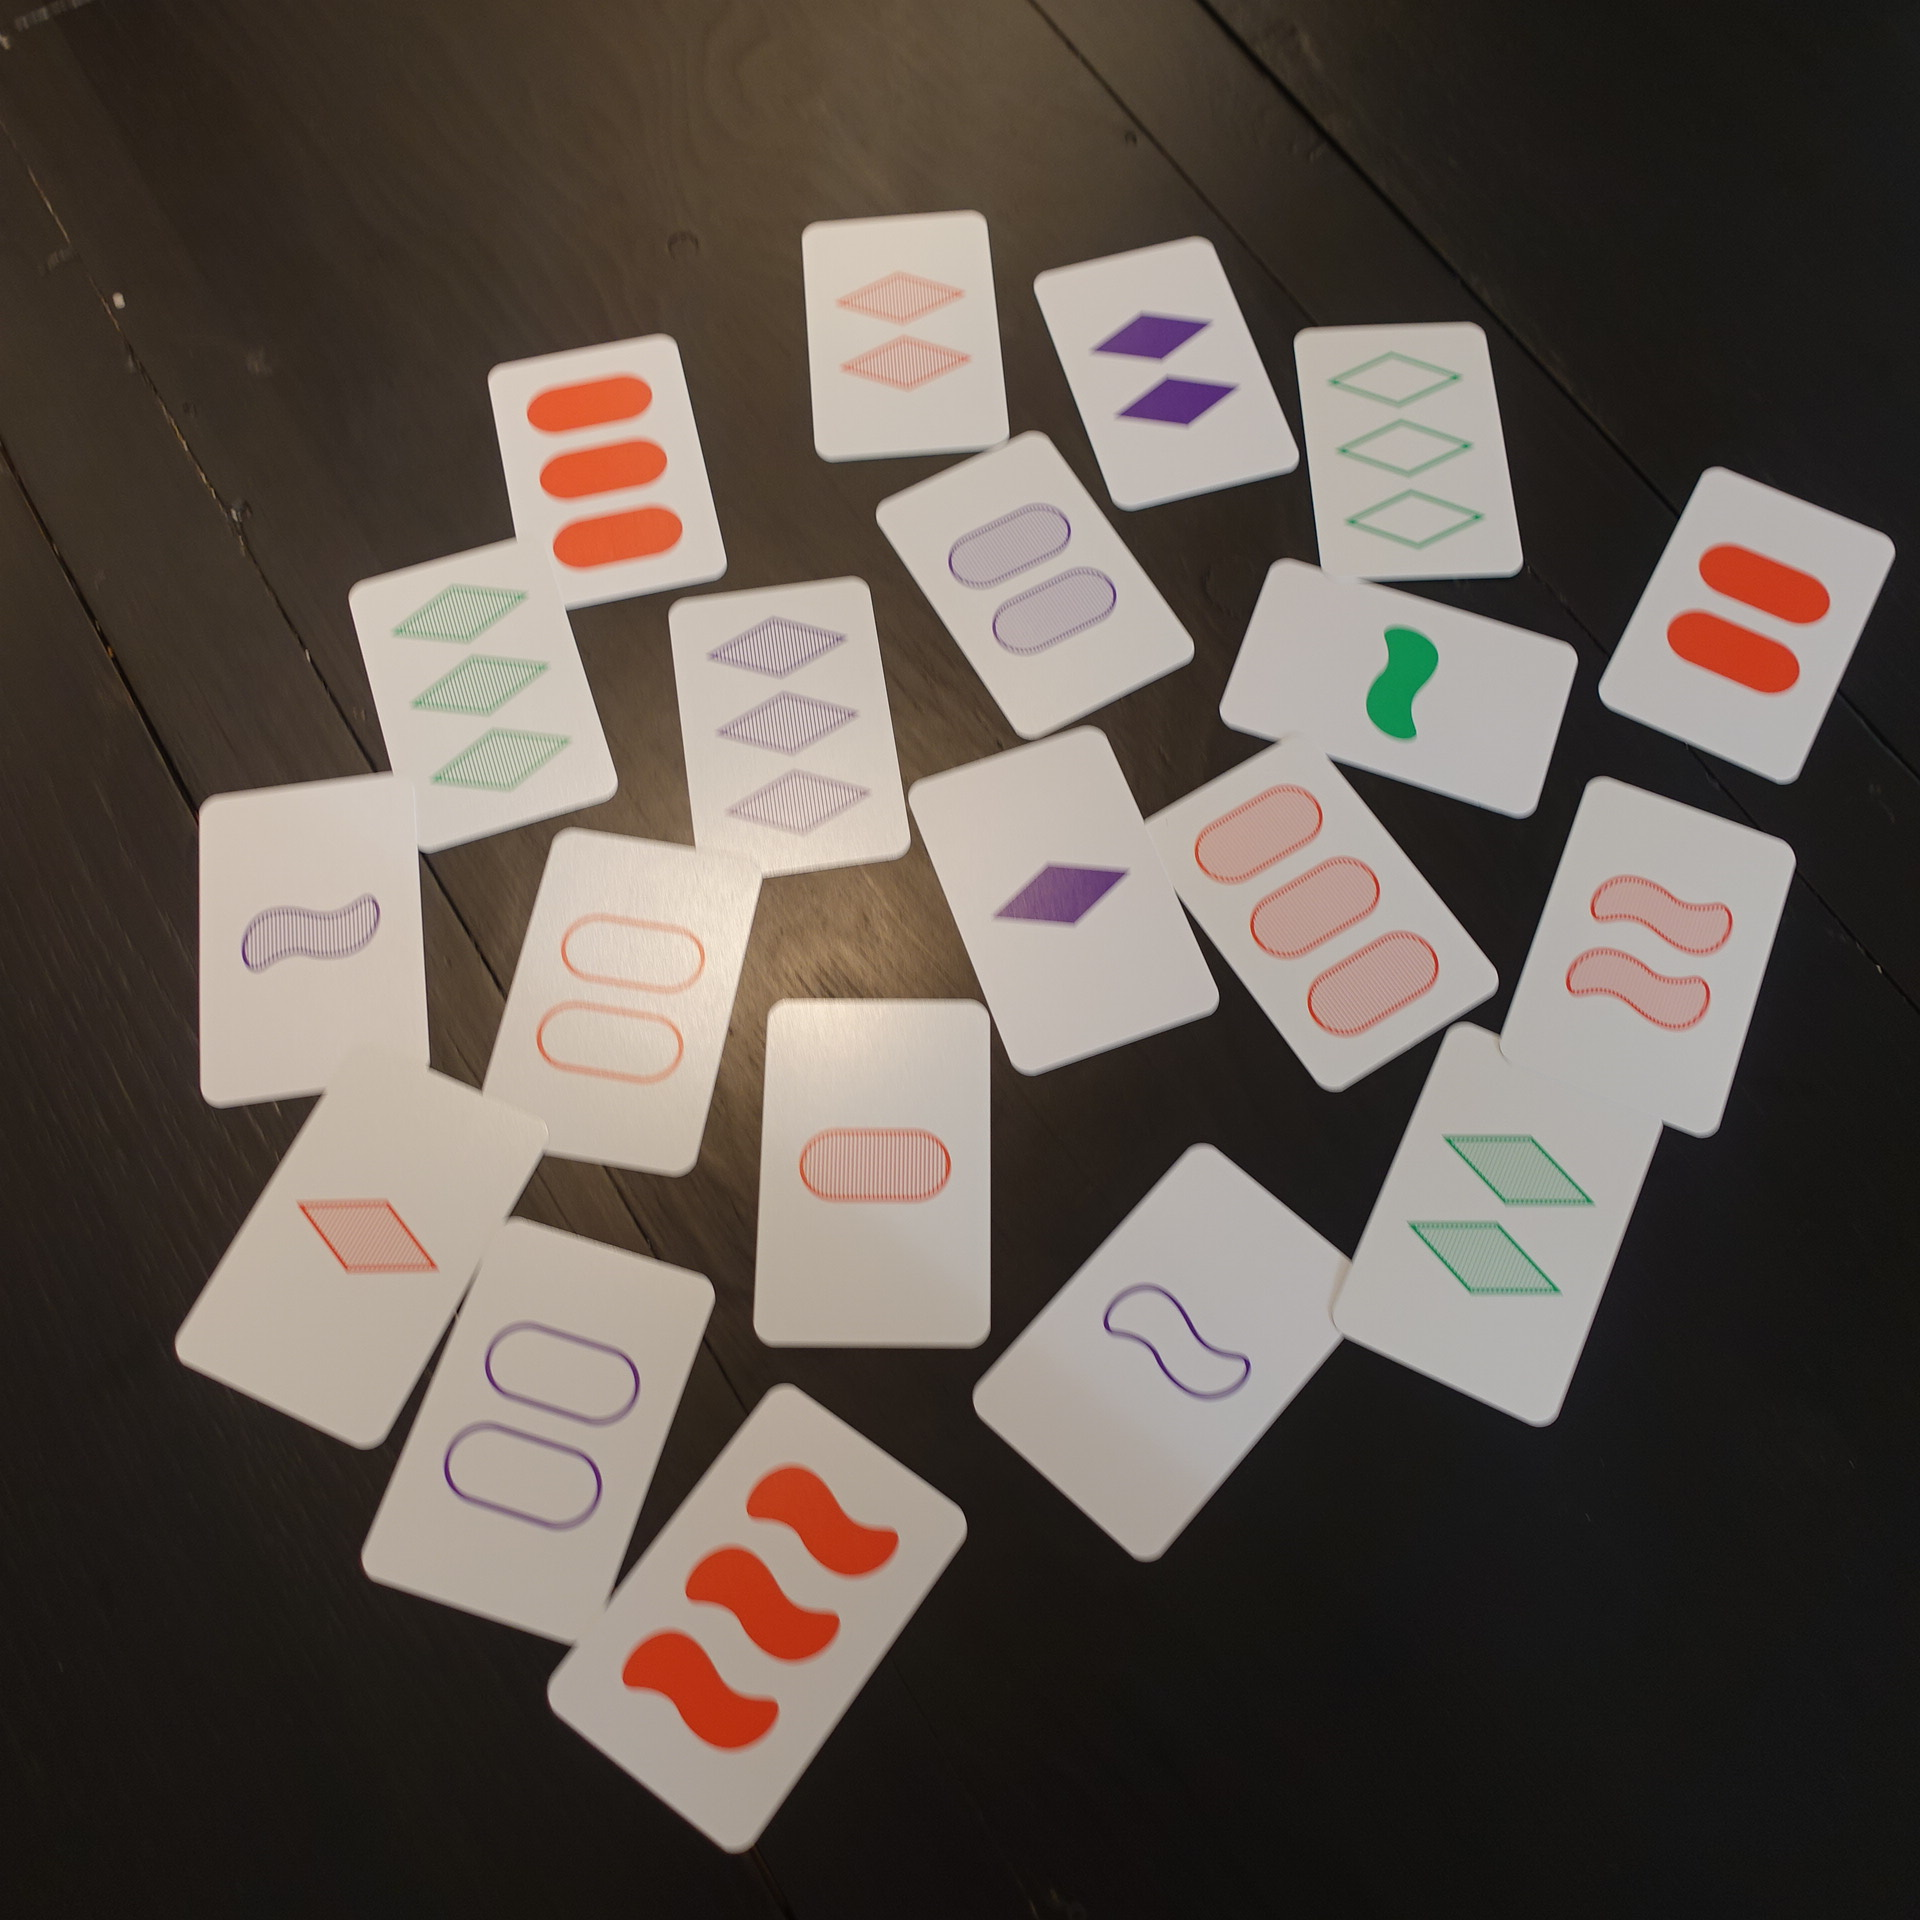c-1-f-d-g: (1210, 542, 1588, 833)
c-1-f-d-p: (904, 714, 1220, 1085)
c-1-h-d-p: (176, 765, 452, 1120)
c-1-h-d-r: (162, 1041, 543, 1465)
c-1-h-o-r: (742, 988, 1013, 1363)
c-1-u-d-p: (960, 1136, 1394, 1570)
c-2-f-d-p: (1029, 220, 1308, 515)
c-2-f-o-r: (1593, 457, 1899, 791)
c-2-h-d-g: (1327, 1006, 1688, 1429)
c-2-h-d-r: (1487, 768, 1813, 1153), (791, 202, 1018, 464)
c-2-h-o-p: (869, 427, 1203, 745)
c-2-u-o-p: (343, 1217, 723, 1656)
c-2-u-o-r: (475, 823, 768, 1189)
c-3-f-d-r: (522, 1371, 972, 1873)
c-3-f-o-r: (469, 331, 740, 621)
c-3-h-d-g: (338, 533, 626, 862)
c-3-h-d-p: (659, 563, 916, 893)
c-3-h-o-r: (1136, 730, 1510, 1097)
c-3-u-d-g: (1276, 311, 1535, 594)
